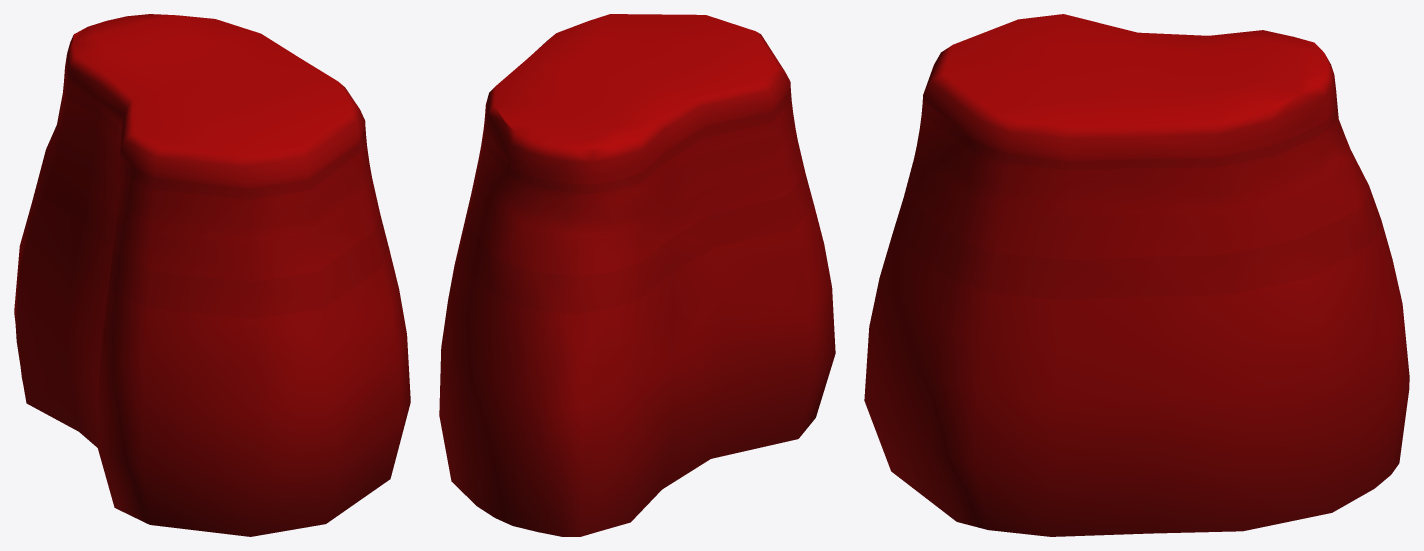
The model's file is geology-landforms-sandstonemesamedium_v1.fbx.
3 views of the same model, side by side, from view 1: azimuth 30°, elevation 25°; view 2: azimuth 150°, elevation 25°; view 3: azimuth 270°, elevation 25° (orthographic). The views are drawn at different scales.
Parts seen in each view (by area): view 1: SandStoneMesaMedium_v1; view 2: SandStoneMesaMedium_v1; view 3: SandStoneMesaMedium_v1.
Part boxes in pixels (<box>): SandStoneMesaMedium_v1: <box>14,14,410,536</box>; SandStoneMesaMedium_v1: <box>439,14,835,536</box>; SandStoneMesaMedium_v1: <box>864,14,1409,536</box>.
Bounding box in the file's own units: 25.77 × 30.45 × 37.51.
